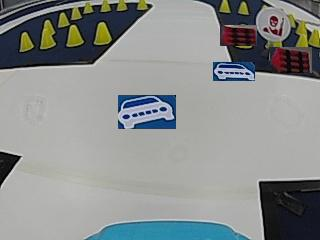evil: (257, 6, 289, 41)
